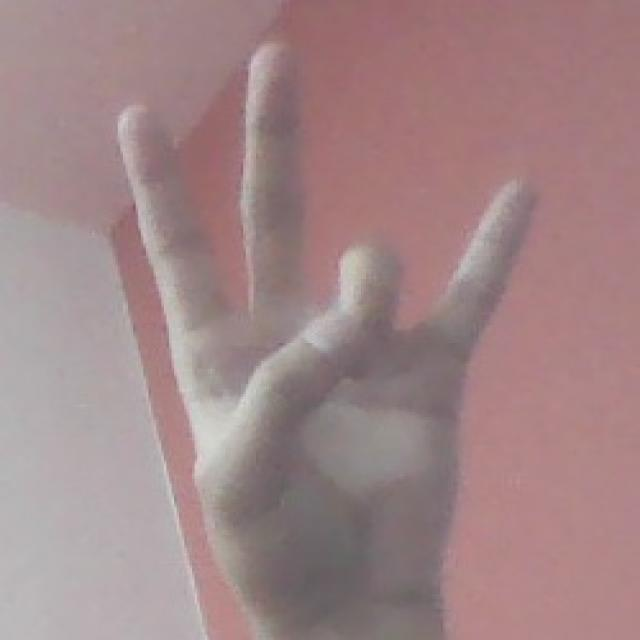Numeric-7: (109, 30, 552, 614)
